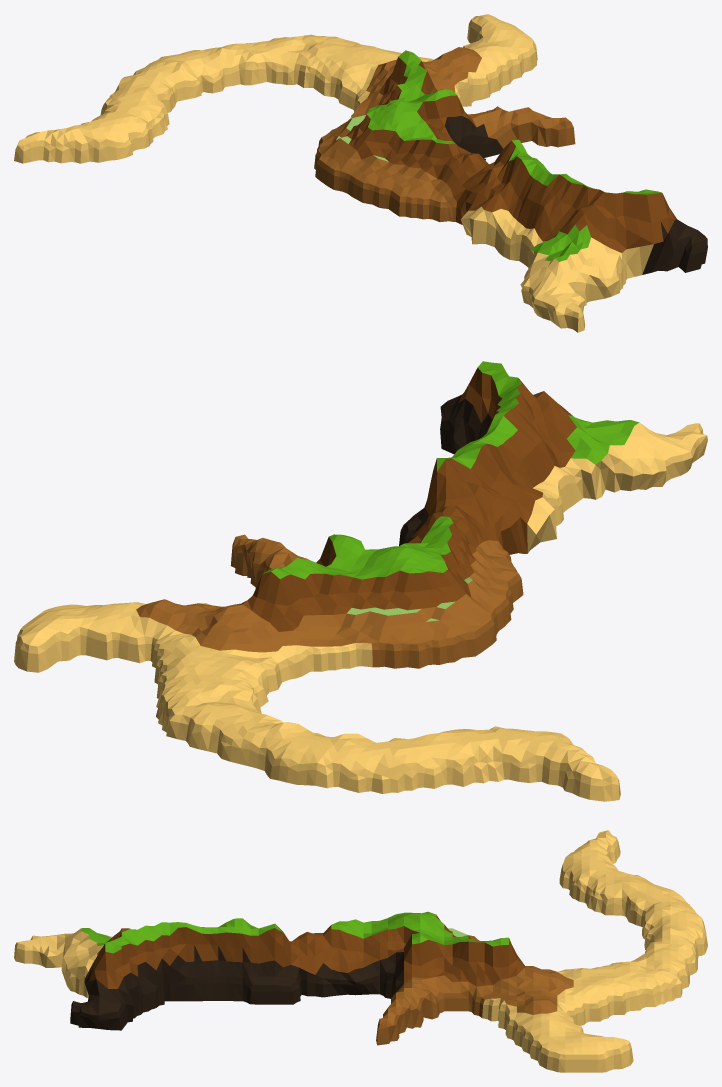
Rendered from Island_C01_LargeThin_Model.fbx.
3 views of the same model, one above another, from view 1: azimuth 30°, elevation 25°; view 2: azimuth 150°, elevation 25°; view 3: azimuth 270°, elevation 25° (orthographic). The views are drawn at different scales.
Visible parts, largest first — view 1: LargeBigIsland_Thin; view 2: LargeBigIsland_Thin; view 3: LargeBigIsland_Thin.
Boxes of the visible parts, <box> form: LargeBigIsland_Thin: <box>14,14,707,332</box>; LargeBigIsland_Thin: <box>14,361,707,801</box>; LargeBigIsland_Thin: <box>14,830,707,1072</box>.
Bounding box in the file's own units: 328 × 47.71 × 422.
